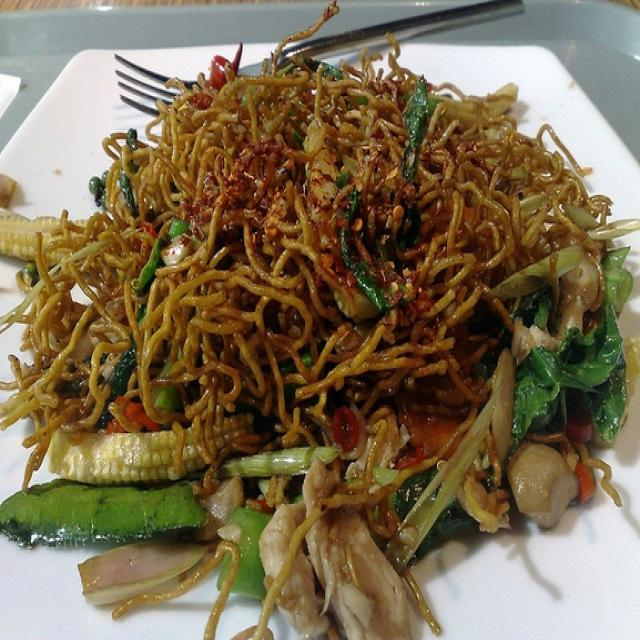面条主食: (15, 44, 626, 610)
